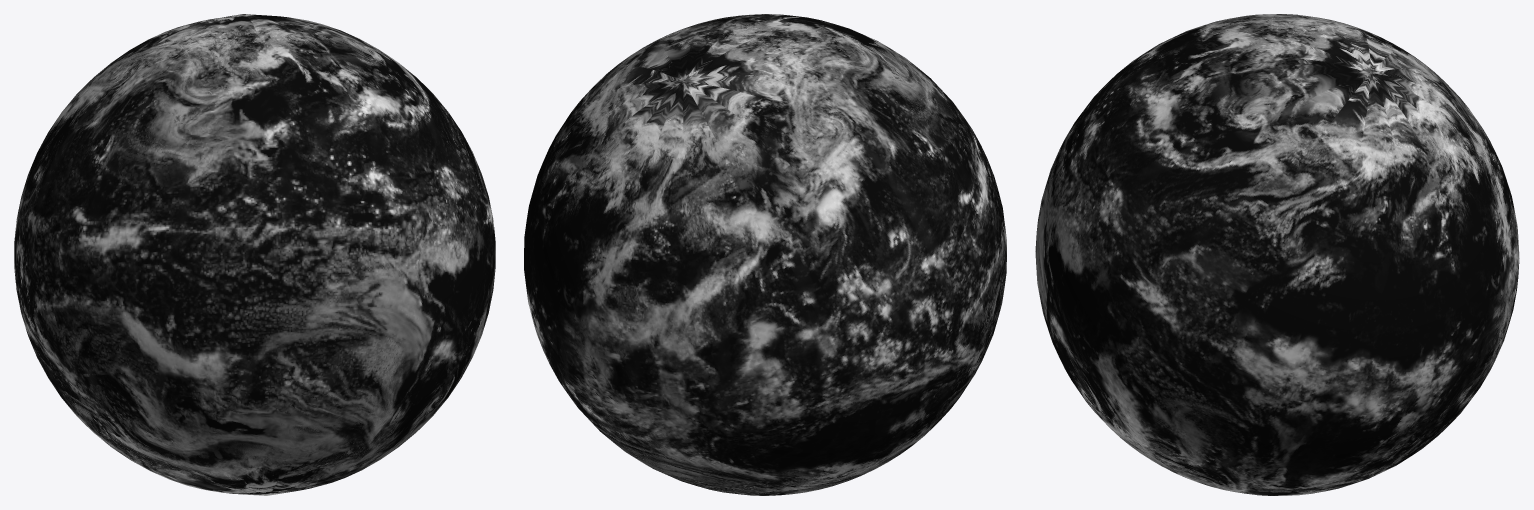
The model's file is realistic_earth_8k.glb.
3 renders of one model, left to right at view 1: azimuth 30°, elevation 25°; view 2: azimuth 150°, elevation 25°; view 3: azimuth 270°, elevation 25°, orthographic.
Parts seen in each view (by area): view 1: atmos.001; view 2: atmos.001; view 3: atmos.001.
Boxes of the visible parts, left/top/right/bottom form: atmos.001: left=14, top=14, right=495, bottom=495; atmos.001: left=524, top=14, right=1006, bottom=495; atmos.001: left=1035, top=14, right=1519, bottom=495.
Bounding box in the file's own units: 1314 × 1310 × 1314.
Materials: 3 (2 with a texture image).
